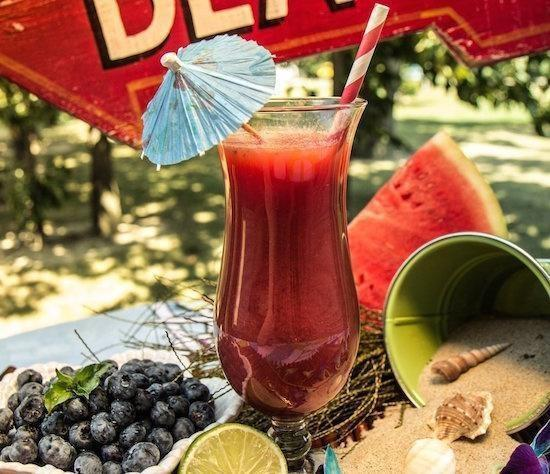glass-wine: (213, 96, 370, 473)
